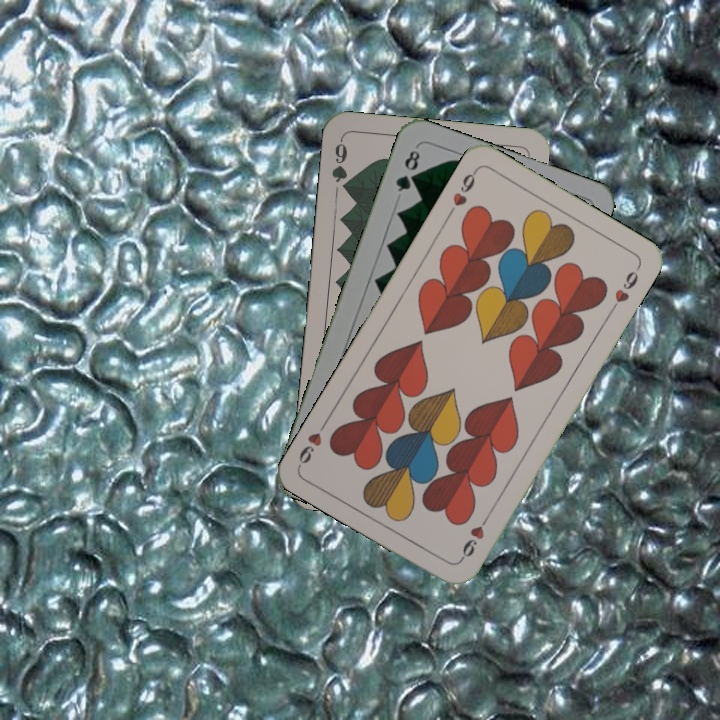G8: (391, 146, 423, 195)
G9: (327, 135, 352, 195)
H9: (456, 511, 493, 564), (444, 165, 480, 219)
